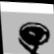not correct: (18, 20, 52, 54)
